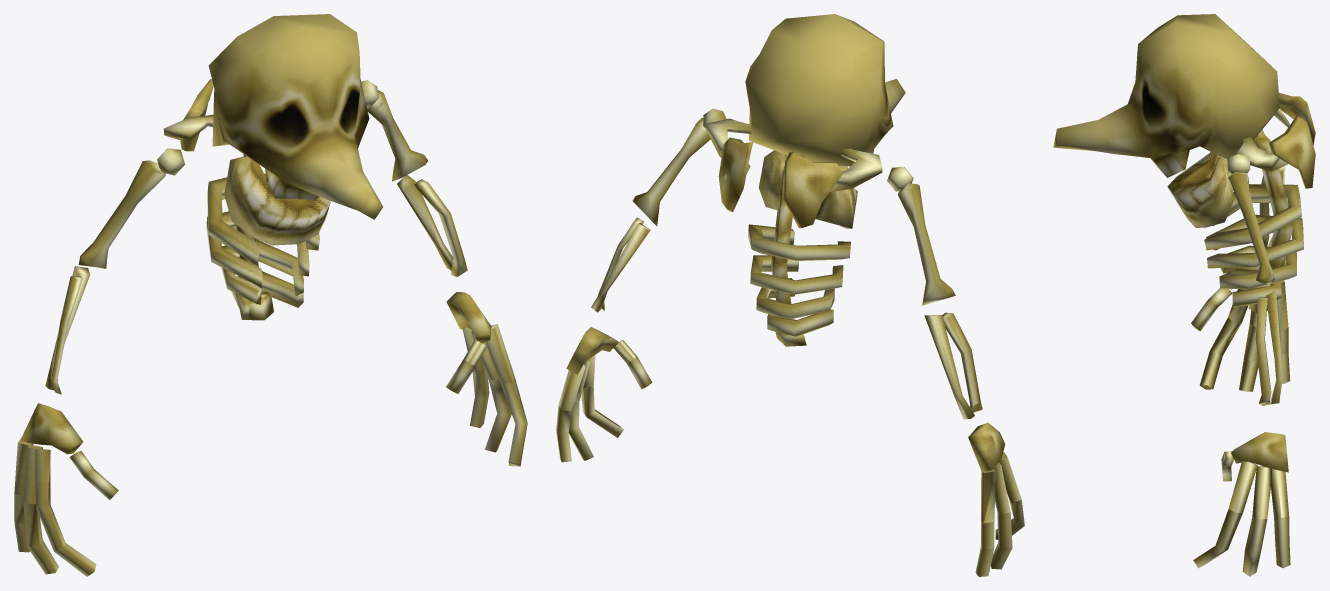
Rendered from CrashSkeletonC.obj.
3 views of the same model, side by side, from view 1: azimuth 30°, elevation 25°; view 2: azimuth 150°, elevation 25°; view 3: azimuth 270°, elevation 25° (orthographic). The views are drawn at different scales.
Visible parts, largest first — view 1: CrashSkeleton; view 2: CrashSkeleton; view 3: CrashSkeleton.
Boxes of the visible parts, x1,y1,x2,y2 form: CrashSkeleton: (14, 14, 527, 576); CrashSkeleton: (556, 14, 1024, 576); CrashSkeleton: (1053, 14, 1315, 576).
Bounding box in the file's own units: 3.79 × 3.87 × 1.99.
